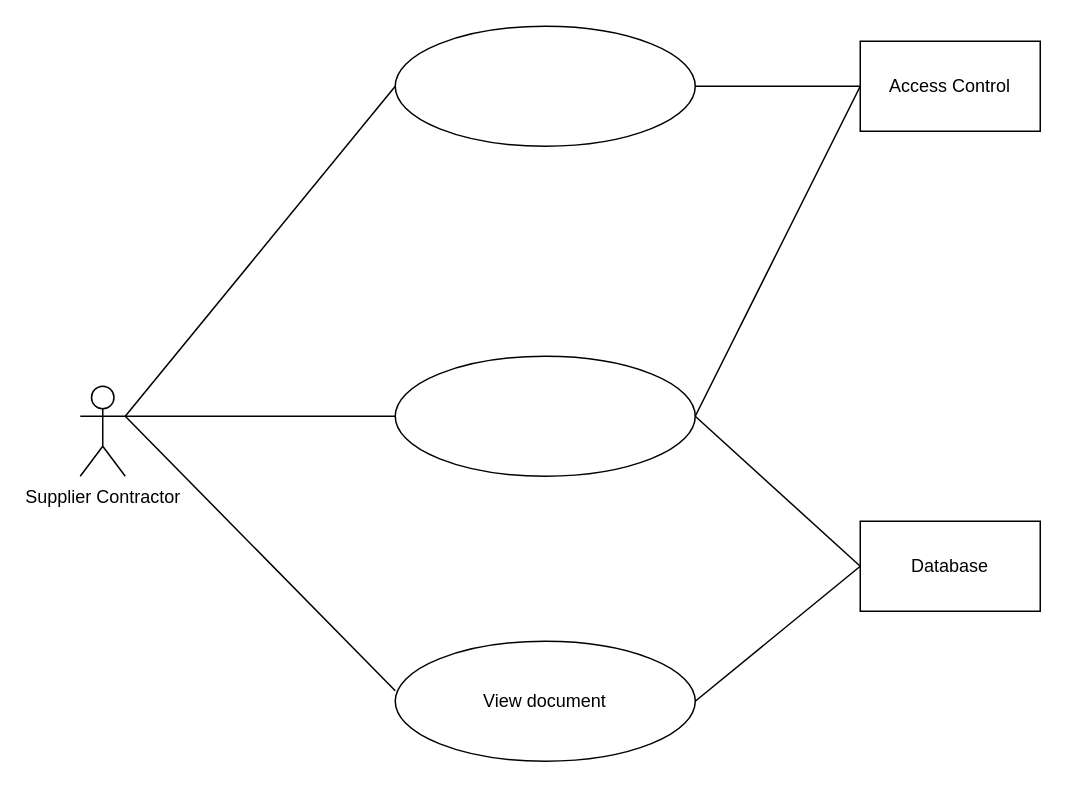
Image size: 1067x788. Some labels were removed from this diagram. Here are the shapes that lost their labels. From the top down, the centre of each, then its label:
(544,85): User Login
(544,415): Request Access to Document
